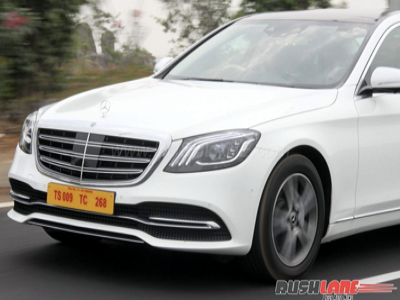licence: (47, 181, 115, 216)
